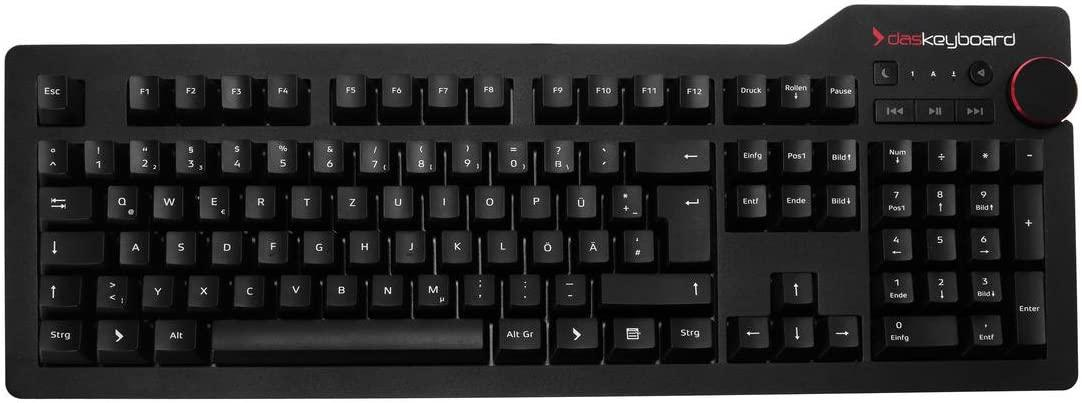0: (494, 135, 528, 173)
1: (82, 136, 114, 174)
2: (127, 137, 160, 173)
3: (173, 137, 206, 174)
4: (219, 136, 252, 172)
5: (265, 136, 298, 173)
6: (311, 135, 344, 172)
7: (357, 135, 388, 172)
8: (403, 135, 436, 173)
9: (449, 135, 483, 173)
a: (117, 228, 149, 264)
accent: (587, 137, 618, 171)
ae: (577, 227, 608, 262)
alt-left: (152, 316, 198, 352)
altgr-right: (494, 316, 544, 352)
b: (324, 271, 357, 305)
c: (232, 271, 264, 305)
caret: (36, 136, 68, 173)
comma: (462, 271, 495, 304)
d: (210, 228, 242, 263)
del: (633, 135, 710, 172)
e: (197, 182, 229, 217)
enter: (658, 181, 710, 261)
f: (256, 227, 287, 262)
g: (301, 228, 334, 263)
h: (347, 227, 379, 262)
hash: (621, 226, 653, 262)
i: (427, 182, 459, 215)
j: (394, 227, 424, 262)
k: (439, 227, 471, 262)
keyboard: (4, 58, 1072, 399)
l: (485, 227, 516, 262)
less: (94, 272, 127, 308)
m: (415, 271, 449, 306)
minus: (552, 271, 585, 304)
n: (370, 271, 404, 305)
o: (472, 182, 505, 217)
oe: (530, 227, 563, 263)
p: (519, 182, 550, 217)
plus: (609, 181, 641, 216)
point: (508, 271, 540, 304)
q: (104, 182, 138, 218)
r: (243, 182, 275, 217)
s: (163, 228, 195, 263)
shift-left: (38, 274, 81, 306)
shift-lock: (40, 229, 104, 264)
shift-right: (599, 271, 710, 303)
space: (209, 316, 486, 352)
ss: (542, 136, 575, 173)
strg-left: (37, 317, 84, 358)
strg-right: (666, 314, 714, 349)
t: (290, 182, 321, 216)
tab: (37, 184, 92, 219)
u: (381, 182, 414, 217)
ue: (564, 182, 596, 217)
v: (278, 271, 311, 305)
w: (151, 182, 184, 218)
x: (186, 272, 218, 305)
y: (141, 272, 172, 306)
z: (335, 183, 367, 217)
